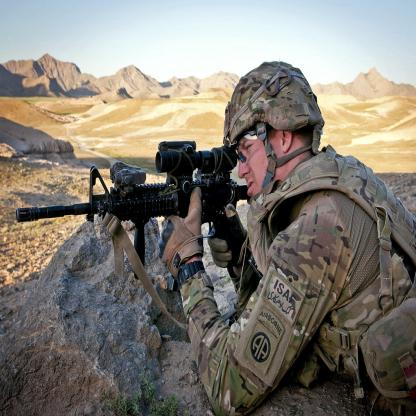Helmet: (221, 75, 332, 188)
